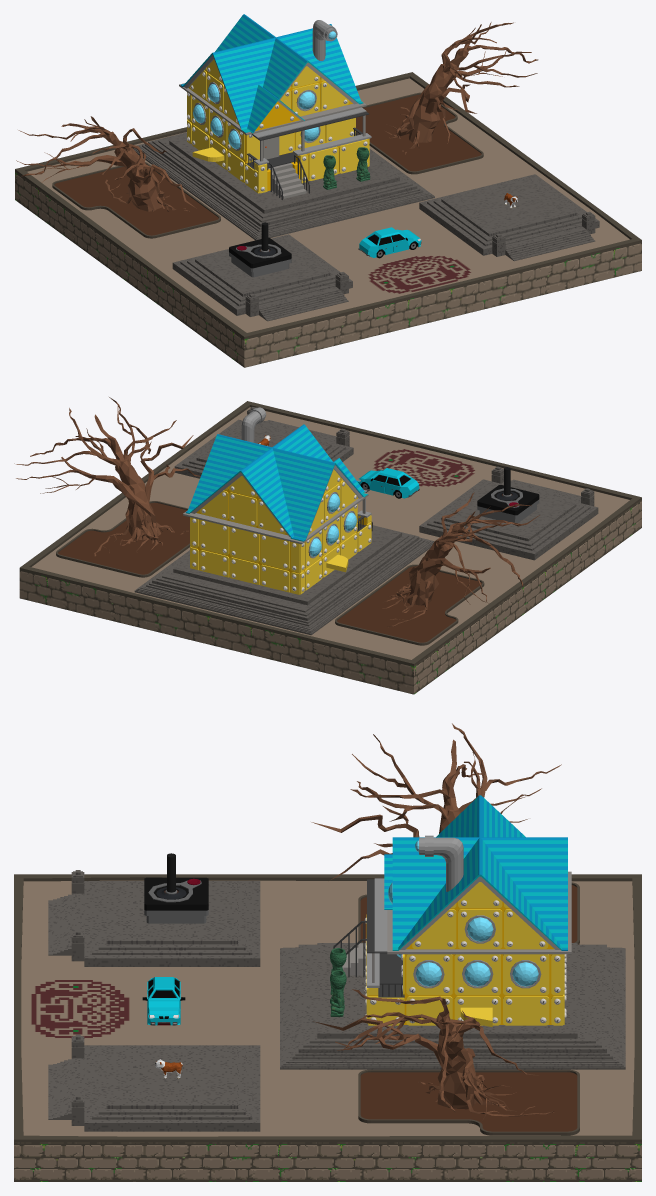
3 renders of one model, top to bottom at view 1: azimuth 30°, elevation 25°; view 2: azimuth 150°, elevation 25°; view 3: azimuth 270°, elevation 25°, orthographic. The views are drawn at different scales.
Parts seen in each view (by area): view 1: Cube.011, Cube.1366, OBJRANDOM_JOYSTICK, VEHICLES_CAR; view 2: Cube.011, Cube.1366, OBJRANDOM_JOYSTICK, VEHICLES_CAR; view 3: Cube.011, Cube.1366, OBJRANDOM_JOYSTICK, VEHICLES_CAR.
Boxes of the visible parts, x1,y1,x2,y2 form: Cube.011: [15, 22, 641, 367]; Cube.1366: [179, 14, 371, 199]; OBJRANDOM_JOYSTICK: [229, 222, 291, 277]; VEHICLES_CAR: [358, 227, 421, 258]; Cube.011: [14, 397, 641, 694]; Cube.1366: [183, 407, 372, 594]; OBJRANDOM_JOYSTICK: [477, 467, 539, 523]; VEHICLES_CAR: [357, 468, 419, 498]; Cube.011: [14, 723, 641, 1181]; Cube.1366: [333, 795, 571, 1026]; OBJRANDOM_JOYSTICK: [144, 853, 208, 923]; VEHICLES_CAR: [142, 977, 185, 1025].
Bounding box in the file's own units: 5099 × 1750 × 4000.
Materials: 41 (5 with a texture image).
